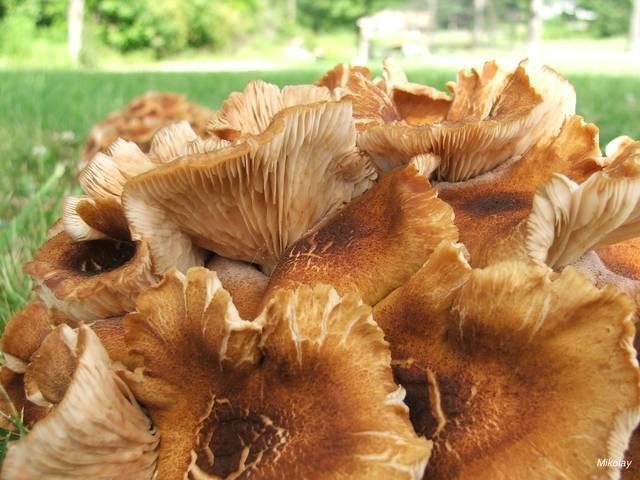edible_mushroom: (0, 54, 639, 479)
